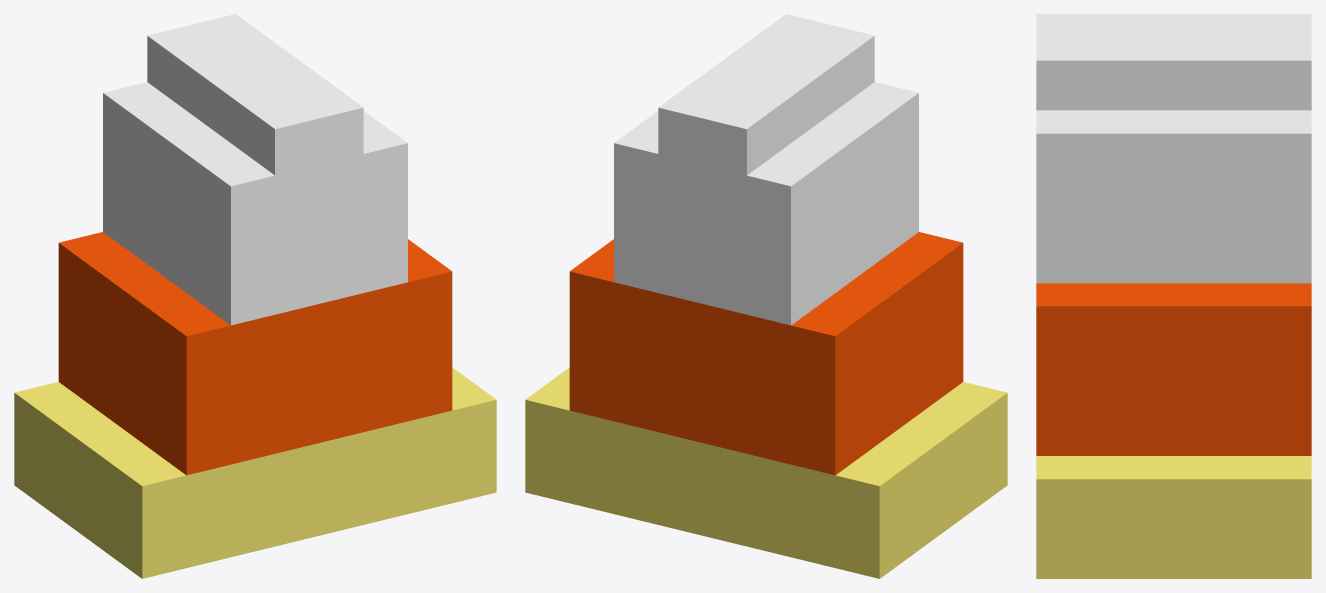
Rendered from CandyCorn.dae.
The picture shows the model from 3 angles, left to right: view 1: azimuth 30°, elevation 25°; view 2: azimuth 150°, elevation 25°; view 3: azimuth 270°, elevation 25°; orthographic projection. The views are drawn at different scales.
Parts seen in each view (by area): view 1: CandyCorn; view 2: CandyCorn; view 3: CandyCorn.
Boxes of the visible parts, x1,y1,x2,y2 form: CandyCorn: (14,14,496,578); CandyCorn: (525,14,1007,578); CandyCorn: (1036,14,1311,578).
Size of the model in its own units: 8 by 9 by 5.
Materials: 1 (1 with a texture image).
